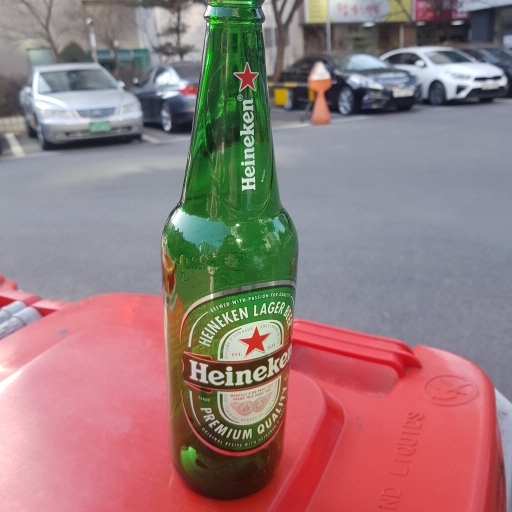Glass_1: (156, 3, 304, 498)
